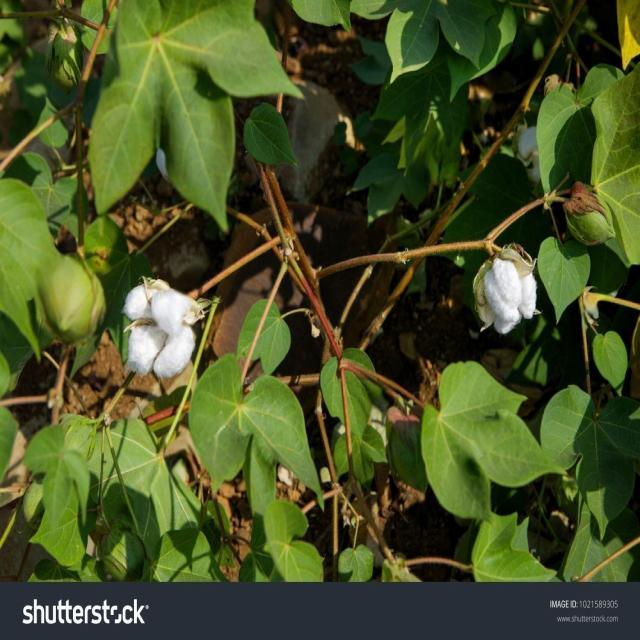Early_blight: (126, 283, 196, 375), (477, 244, 537, 335)
